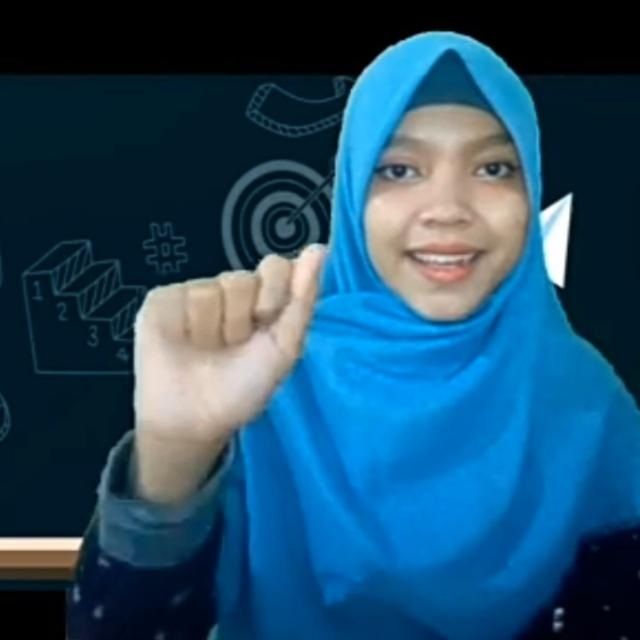A: (125, 238, 327, 458)
